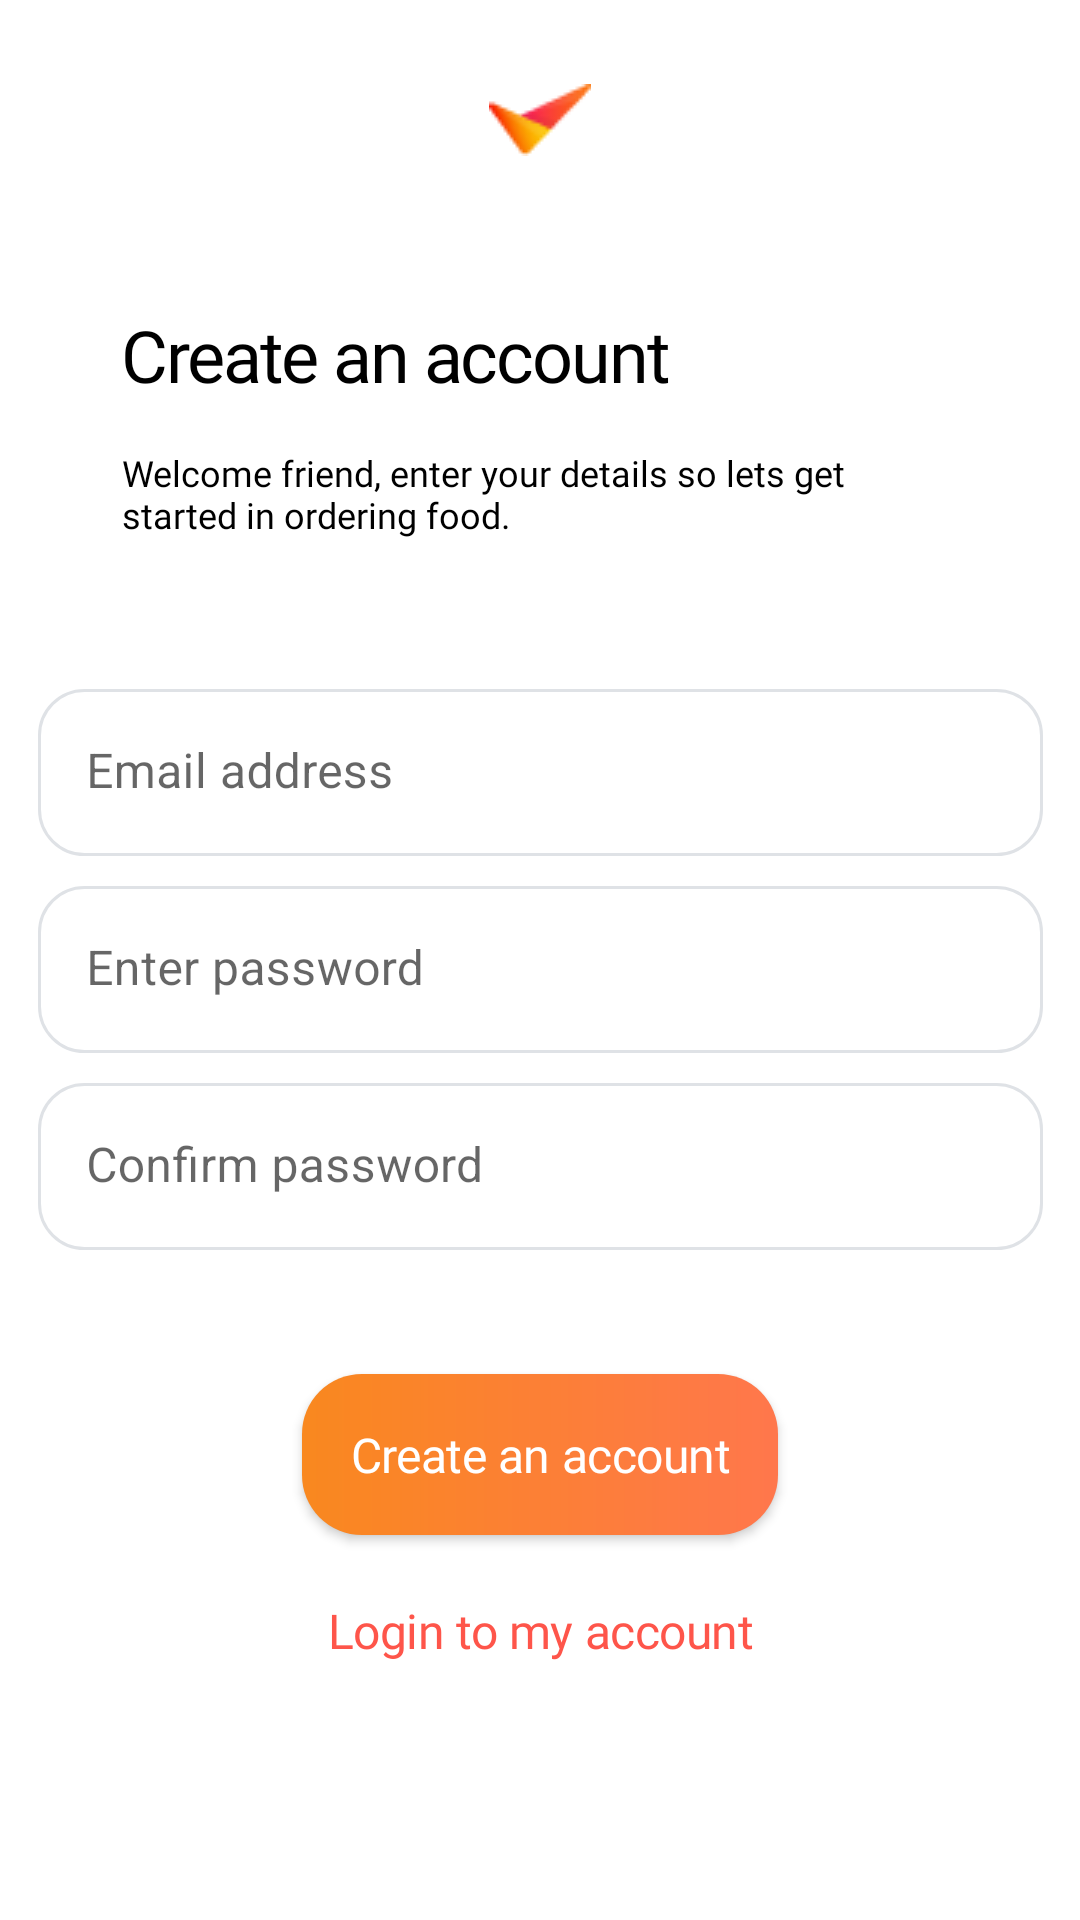

Where icons sit on this 1080px×1920px app screen, as (x1,y1,x2,y2):
app: (489,84,591,156)
